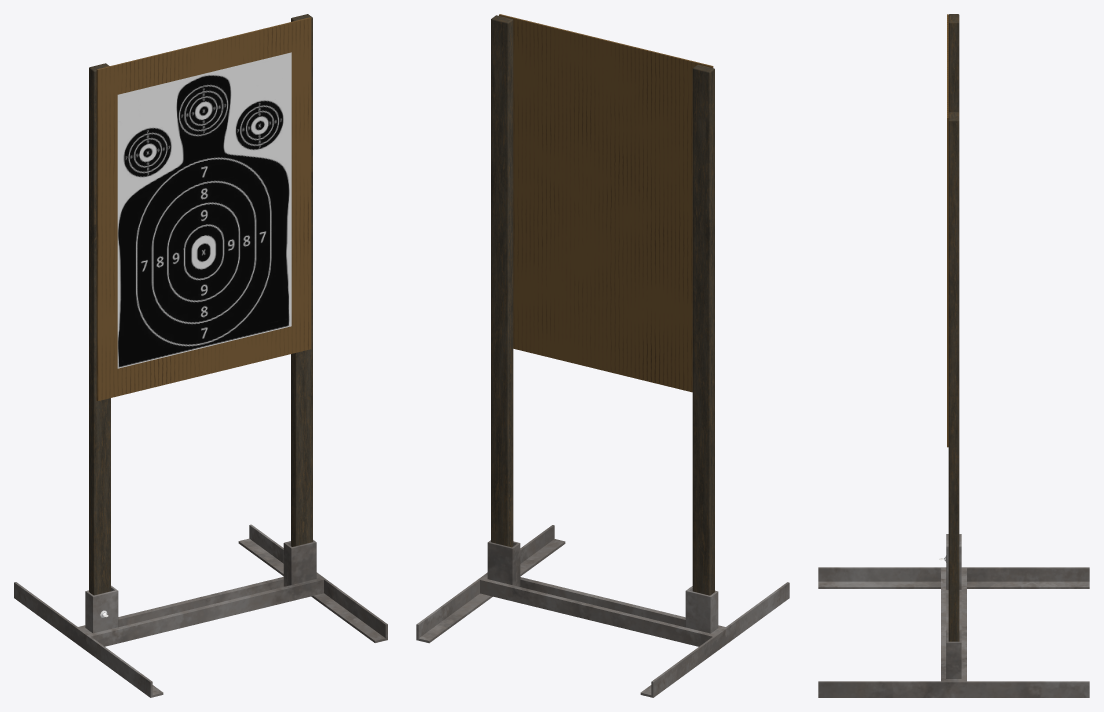
The model's file is Target_001.fbx.
3 renders of one model, left to right at view 1: azimuth 30°, elevation 25°; view 2: azimuth 150°, elevation 25°; view 3: azimuth 270°, elevation 25°, orthographic.
Parts seen in each view (by area): view 1: Cube.004; view 2: Cube.004; view 3: Cube.004.
Boxes of the visible parts, left/top/right/bottom form: Cube.004: left=14, top=14, right=387, bottom=697; Cube.004: left=416, top=14, right=789, bottom=697; Cube.004: left=818, top=14, right=1089, bottom=697.
Size of the model in its own units: 90.67 by 211 by 90.27.
Materials: 1 (1 with a texture image).
